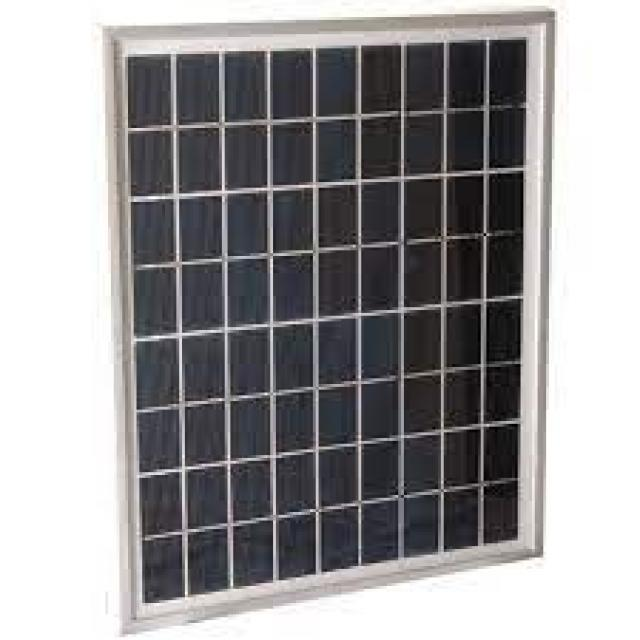no faulty: (109, 31, 548, 640)
